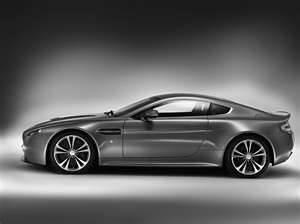car: (16, 91, 300, 182)
